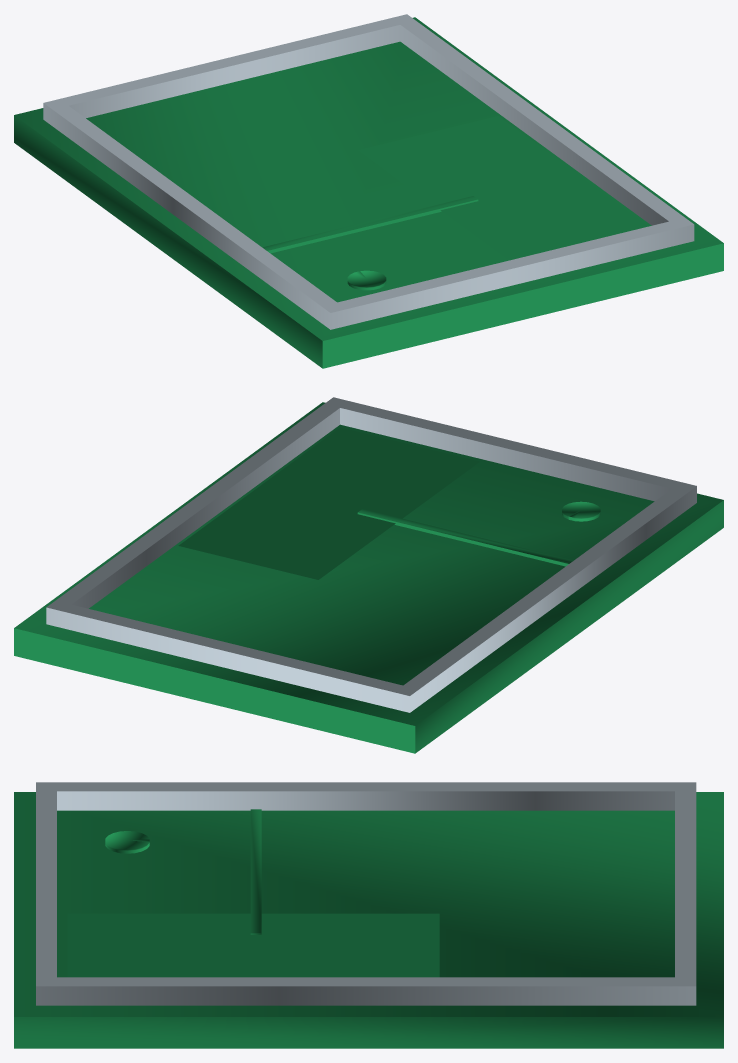
Rendered from Level31.fbx.
3 views of the same model, one above another, from view 1: azimuth 30°, elevation 25°; view 2: azimuth 150°, elevation 25°; view 3: azimuth 270°, elevation 25° (orthographic). The views are drawn at different scales.
Visible parts, largest first — view 1: Box002, Rectangle0; view 2: Box002, Rectangle0; view 3: Box002, Rectangle0.
Part boxes in pixels (<box>): Box002: <box>14,17,723,368</box>; Rectangle0: <box>43,14,694,329</box>; Box002: <box>14,402,723,753</box>; Rectangle0: <box>46,397,696,712</box>; Box002: <box>14,792,723,1048</box>; Rectangle0: <box>36,782,696,1005</box>.
Bounding box in the file's own units: 135 × 14.27 × 180.
